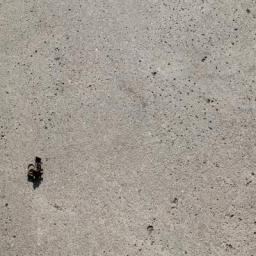FOD: (26, 155, 47, 193)
